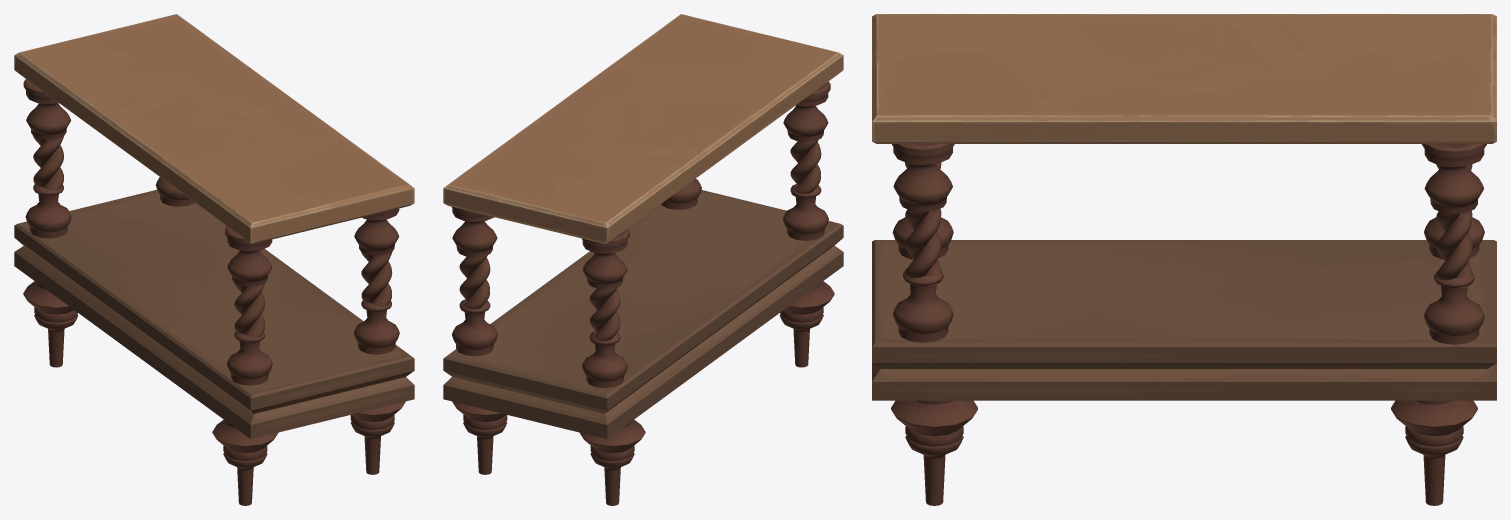
File: ThreeTierShelf.fbx
3 views of the same model, side by side, from view 1: azimuth 30°, elevation 25°; view 2: azimuth 150°, elevation 25°; view 3: azimuth 270°, elevation 25° (orthographic). The views are drawn at different scales.
Visible parts, largest first — view 1: BaseShelf, MiddleShelf (1), middleStickPart3 (×3), middleStickPart2 (×3), footStick (2), footStick, footStick (3), middleStickPart1 (2), middleStickPart1, middleStickPart1 (1), middleStickPart1 (3); view 2: BaseShelf, MiddleShelf (1), middleStickPart3 (×3), middleStickPart2 (×3), footStick, footStick (2), footStick (1), middleStickPart1, middleStickPart1 (3), middleStickPart1 (2), middleStickPart1 (1); view 3: BaseShelf, MiddleShelf (1), middleStickPart3 (×2), footStick (1), footStick (3), middleStickPart2 (×2), middleStickPart1 (1), middleStickPart1 (3), middleStickPart1, middleStickPart1 (2).
Boxes of the visible parts, bbox=[...] form: BaseShelf: bbox=[14, 189, 414, 438]; MiddleShelf (1): bbox=[14, 14, 414, 244]; middleStickPart3 (×3): bbox=[23, 79, 399, 286]; middleStickPart2 (×3): bbox=[33, 136, 392, 337]; footStick (2): bbox=[212, 419, 277, 505]; footStick: bbox=[23, 281, 78, 367]; footStick (3): bbox=[350, 401, 405, 474]; middleStickPart1 (2): bbox=[25, 184, 71, 238]; middleStickPart1: bbox=[226, 331, 272, 385]; middleStickPart1 (1): bbox=[353, 300, 399, 354]; middleStickPart1 (3): bbox=[155, 177, 194, 206]; BaseShelf: bbox=[443, 190, 843, 438]; MiddleShelf (1): bbox=[443, 14, 843, 244]; middleStickPart3 (×3): bbox=[451, 81, 830, 289]; middleStickPart2 (×3): bbox=[459, 139, 821, 344]; footStick: bbox=[580, 419, 645, 505]; footStick (2): bbox=[779, 281, 834, 367]; footStick (1): bbox=[452, 401, 507, 474]; middleStickPart1: bbox=[782, 184, 828, 240]; middleStickPart1 (3): bbox=[452, 299, 497, 356]; middleStickPart1 (2): bbox=[582, 331, 627, 387]; middleStickPart1 (1): bbox=[661, 178, 701, 209]; BaseShelf: bbox=[872, 240, 1496, 400]; MiddleShelf (1): bbox=[872, 14, 1496, 143]; middleStickPart3 (×2): bbox=[892, 144, 1486, 214]; footStick (1): bbox=[1391, 400, 1477, 505]; footStick (3): bbox=[891, 400, 977, 505]; middleStickPart2 (×2): bbox=[905, 208, 1472, 288]; middleStickPart1 (1): bbox=[892, 269, 953, 342]; middleStickPart1 (3): bbox=[1424, 271, 1484, 344]; middleStickPart1: bbox=[892, 217, 953, 259]; middleStickPart1 (2): bbox=[1424, 217, 1484, 259].
Bounding box in the file's own units: 4.51 × 7 × 10.
